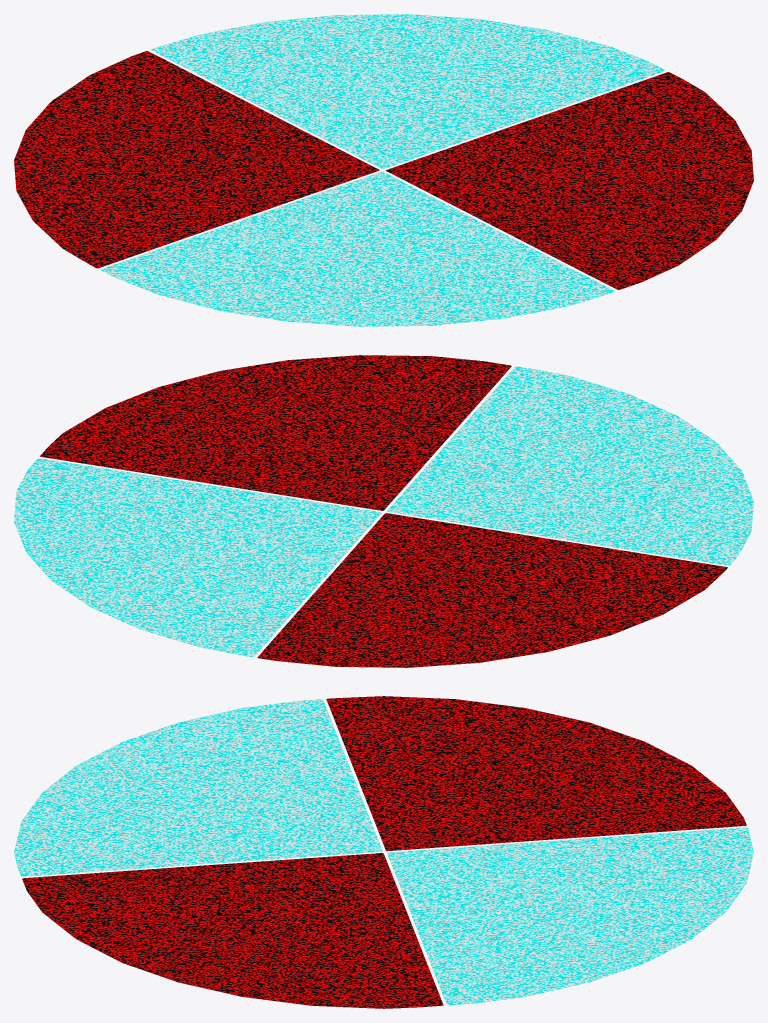
File: SM_SpherePlane_03_KJS.fbx
3 views of the same model, one above another, from view 1: azimuth 30°, elevation 25°; view 2: azimuth 150°, elevation 25°; view 3: azimuth 270°, elevation 25° (orthographic).
Parts seen in each view (by area): view 1: SM_SpherePlane_03_KJS; view 2: SM_SpherePlane_03_KJS; view 3: SM_SpherePlane_03_KJS.
Part boxes in pixels (box(x1,y1,x2,y2)): SM_SpherePlane_03_KJS: box(14, 14, 753, 326); SM_SpherePlane_03_KJS: box(14, 355, 753, 667); SM_SpherePlane_03_KJS: box(14, 696, 753, 1008).
Bounding box in the file's own units: 152 × 0.000291 × 152.
